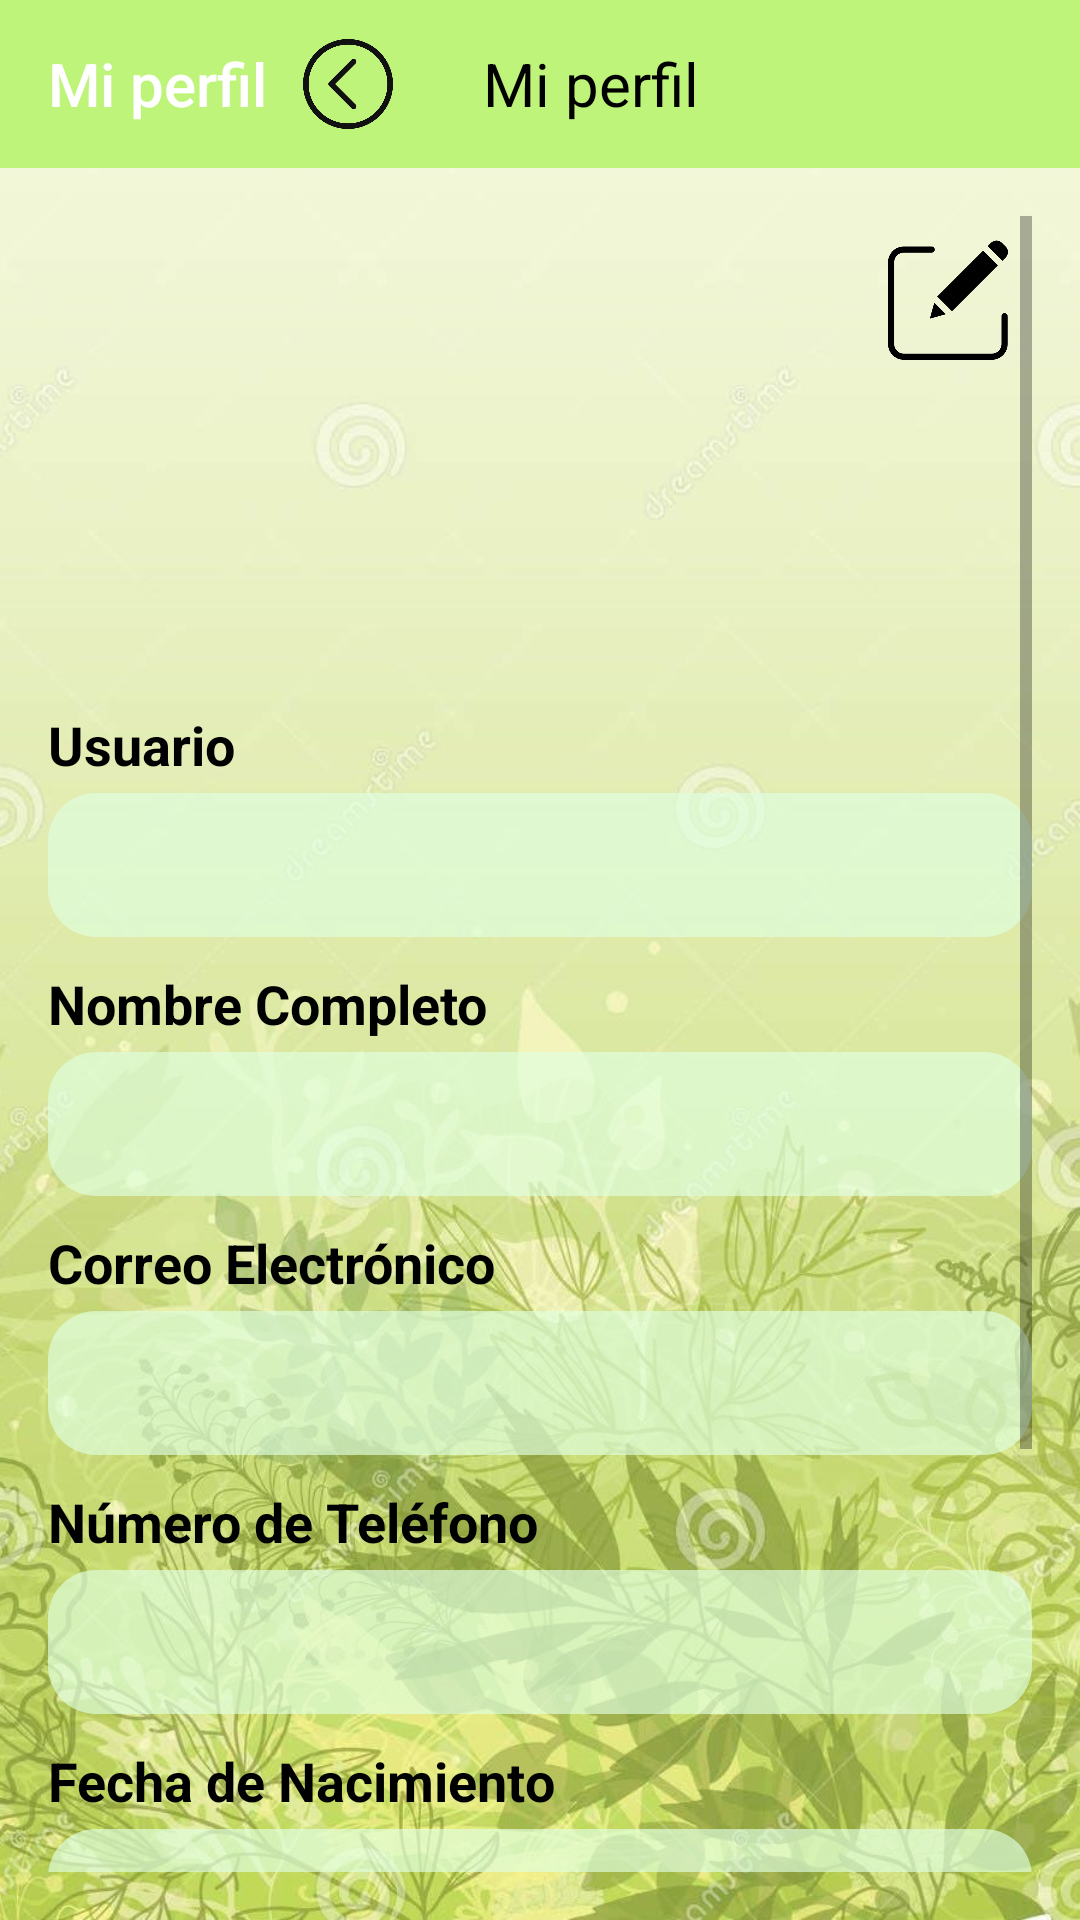

Screen size 1080*1920. Icon name, then its box in pixels as (x1, y1, x2, y2):
Editar perfil: (888, 240, 1008, 360)
